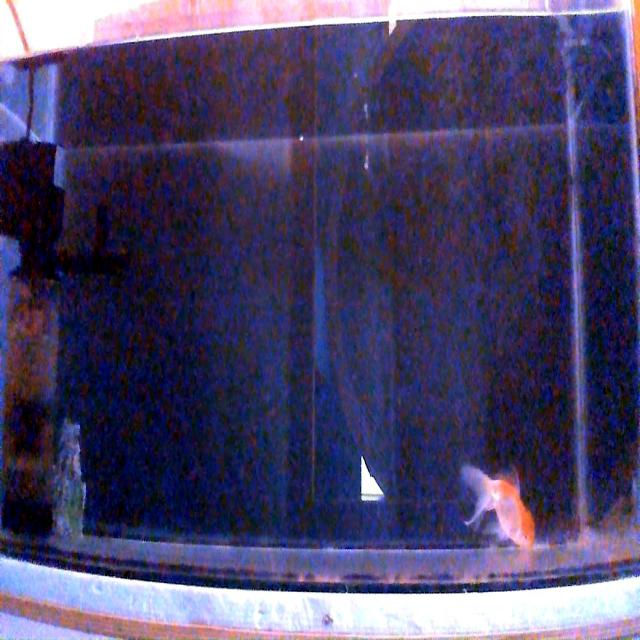fish: (460, 462, 536, 548)
